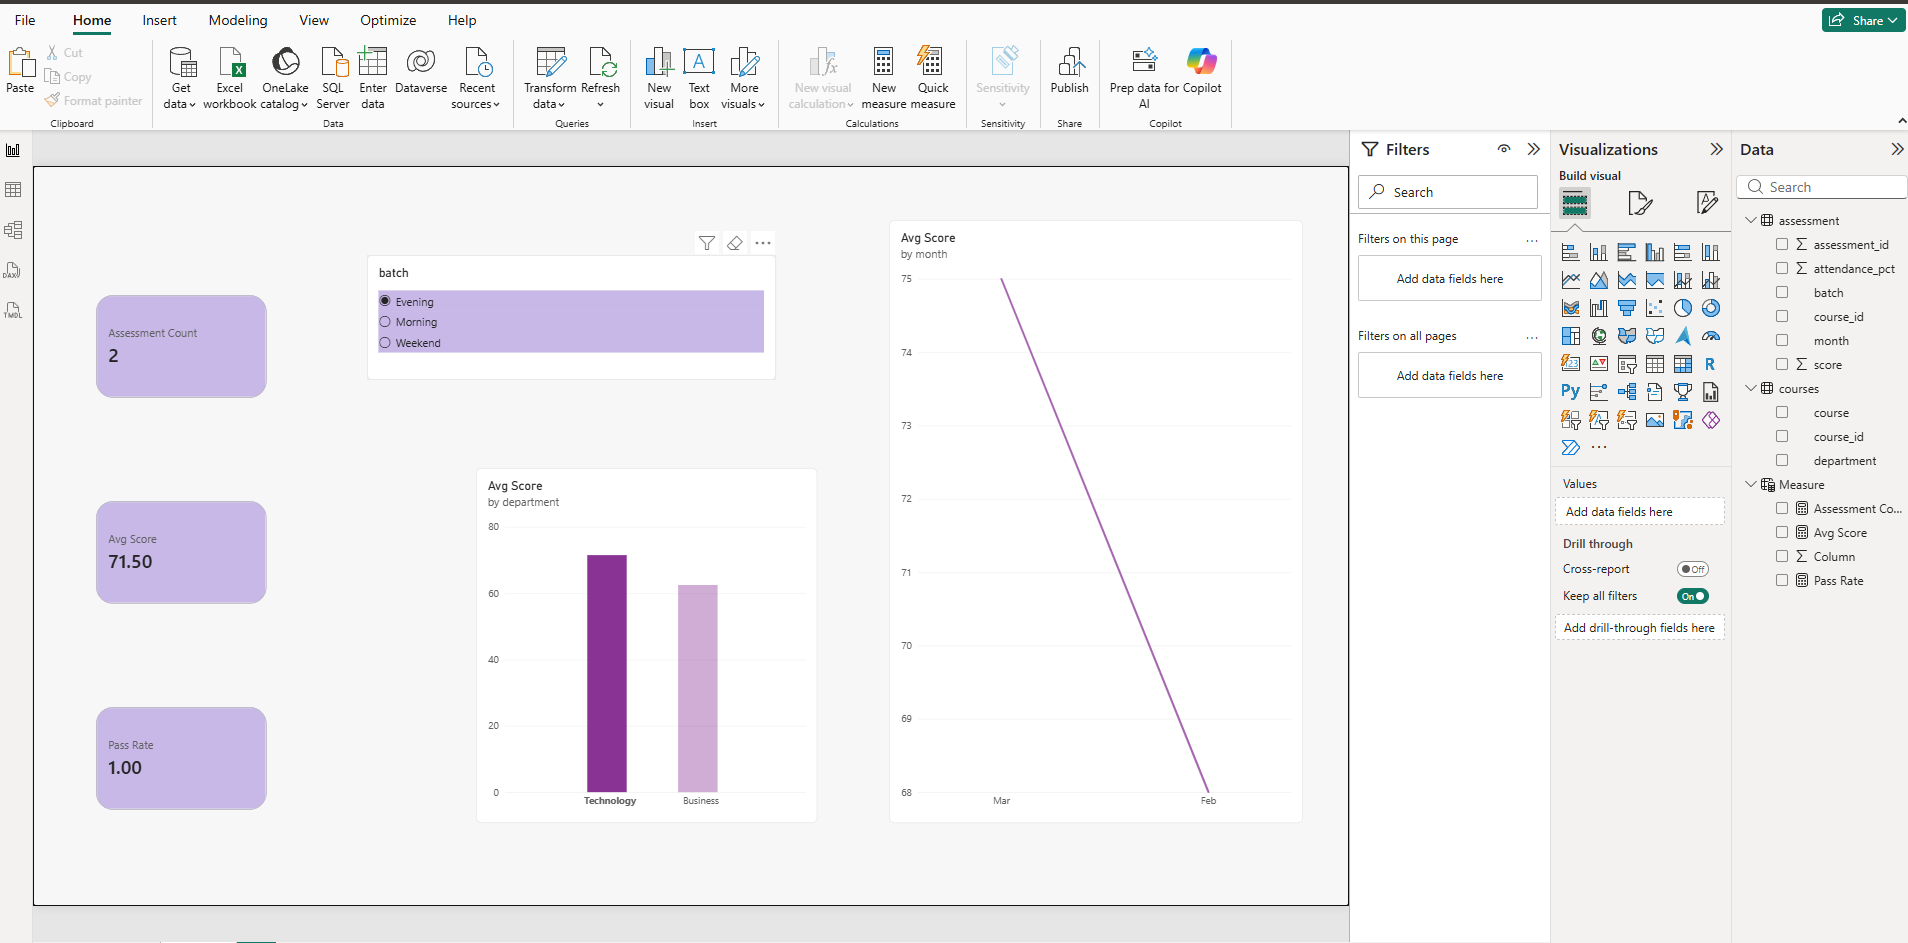

The page's visual inventory and layout, read from the dashboard file:
{"tool":"powerbi","page":{"name":"Page 1","canvas":[1920,1080],"ordinal":0},"visuals":[{"type":"cardVisual","fields":{"Data":["Measure.Assessment Count"]},"box":[91.9,188.2,249.5,150.3],"z":0},{"type":"cardVisual","fields":{"Data":["Measure.Pass Rate"]},"box":[91.9,789.3,249.5,150.3],"z":1},{"type":"cardVisual","fields":{"Data":["Measure.Avg Score"]},"box":[91.9,488.8,249.5,150.3],"z":2},{"type":"clusteredColumnChart","fields":{"Category":["courses.department"],"Y":["Measure.Avg Score"]},"box":[646.3,440.6,497.5,517.9],"z":3},{"type":"lineChart","fields":{"Category":["assessment.month"],"Y":["Measure.Avg Score"]},"box":[1248.9,78.8,604,879.8],"z":4},{"type":"listSlicer","fields":{"Values":["assessment.batch"]},"box":[487.3,129.8,596.7,182.4],"z":5}]}

Visuals, with their boxes on the page's 1920x1080 design canvas (x1, y1, x2, y2). These are canvas units, not pixel positions in the 1908x943 screenshot, which may show the page scaled, cropped or inside an application window:
cardVisual - Measure.Assessment Count: rect(92, 188, 341, 338)
cardVisual - Measure.Pass Rate: rect(92, 789, 341, 940)
cardVisual - Measure.Avg Score: rect(92, 489, 341, 639)
clusteredColumnChart - courses.department x Measure.Avg Score: rect(646, 441, 1144, 958)
lineChart - assessment.month x Measure.Avg Score: rect(1249, 79, 1853, 959)
listSlicer - assessment.batch: rect(487, 130, 1084, 312)
